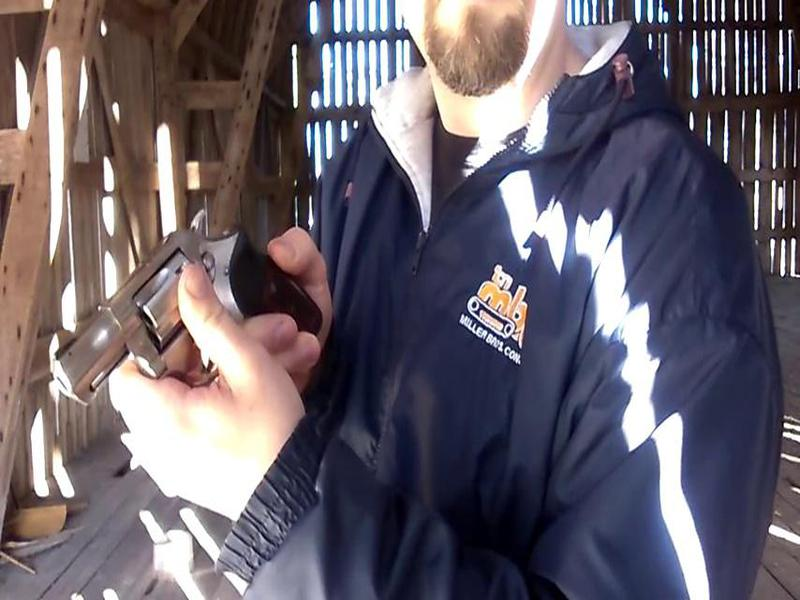Revolver: (47, 184, 336, 404)
